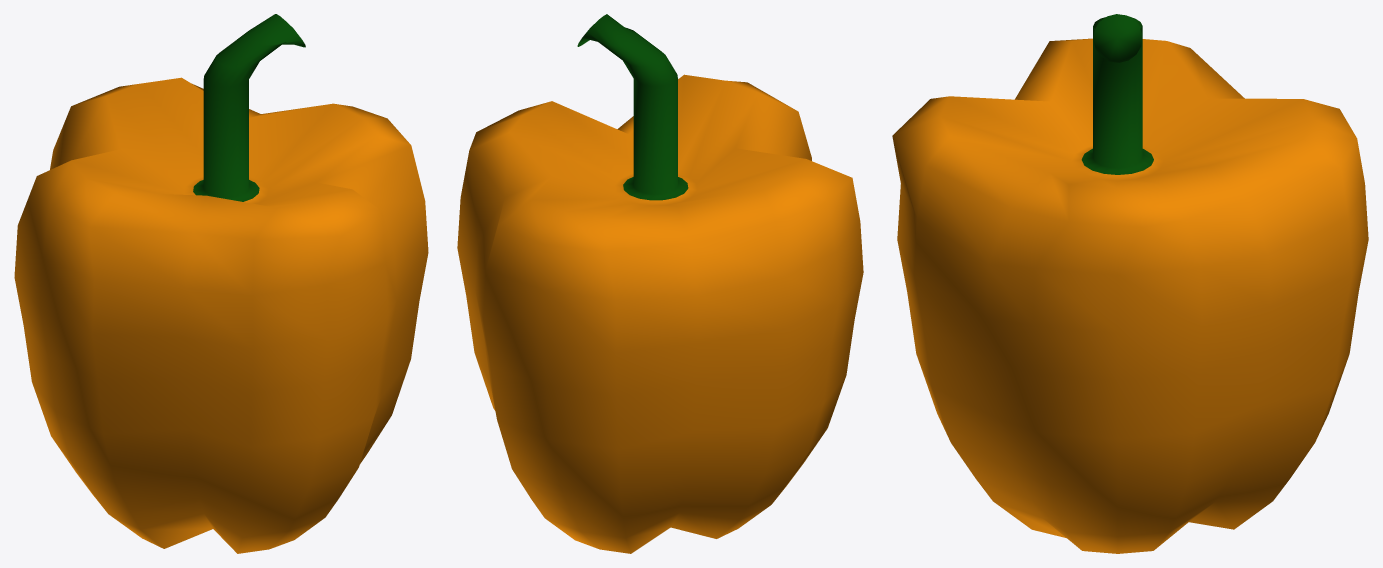
Rendered from PIMENTON_NARANJA.fbx.
3 views of the same model, side by side, from view 1: azimuth 30°, elevation 25°; view 2: azimuth 150°, elevation 25°; view 3: azimuth 270°, elevation 25° (orthographic). The views are drawn at different scales.
Parts seen in each view (by area): view 1: Sphere.001; view 2: Sphere.001; view 3: Sphere.001.
Boxes of the visible parts, x1=… form: Sphere.001: x1=14, y1=14, x2=428, y2=553; Sphere.001: x1=457, y1=14, x2=863, y2=553; Sphere.001: x1=892, y1=14, x2=1368, y2=553.
Size of the model in its own units: 217 by 281 by 228.
